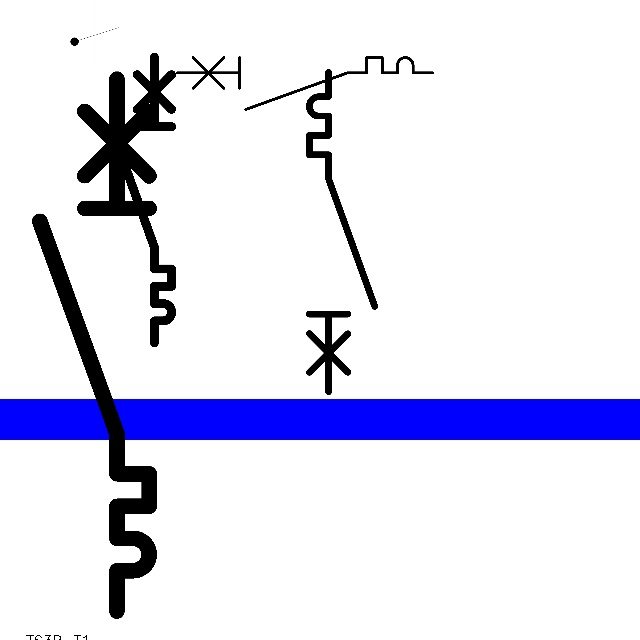interruptor_termomagnetico: (26, 65, 163, 625), (301, 64, 383, 400), (106, 50, 179, 350), (171, 51, 439, 116)
